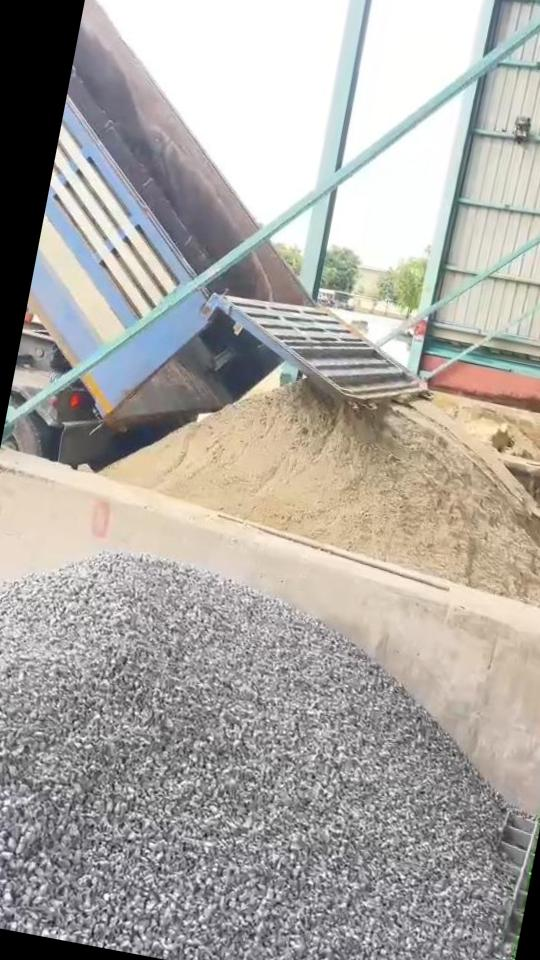gravel: (0, 554, 510, 960)
sand: (106, 382, 540, 614), (454, 416, 540, 461)
